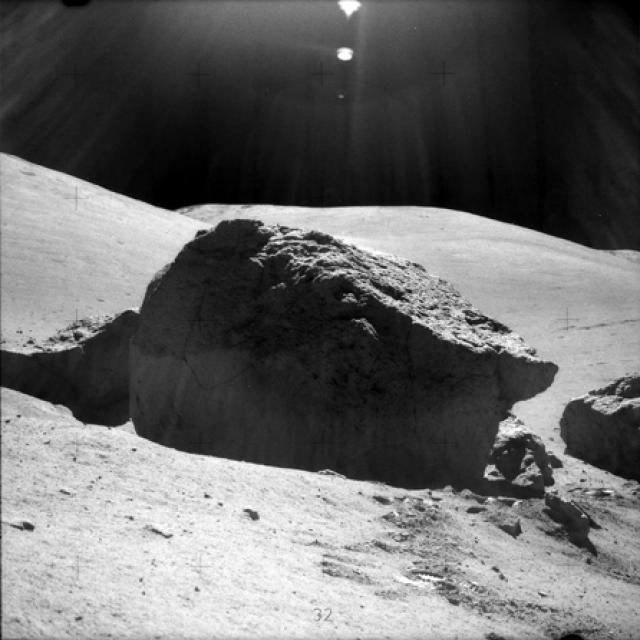rock: (535, 490, 602, 540), (487, 506, 524, 538), (239, 500, 263, 524)
